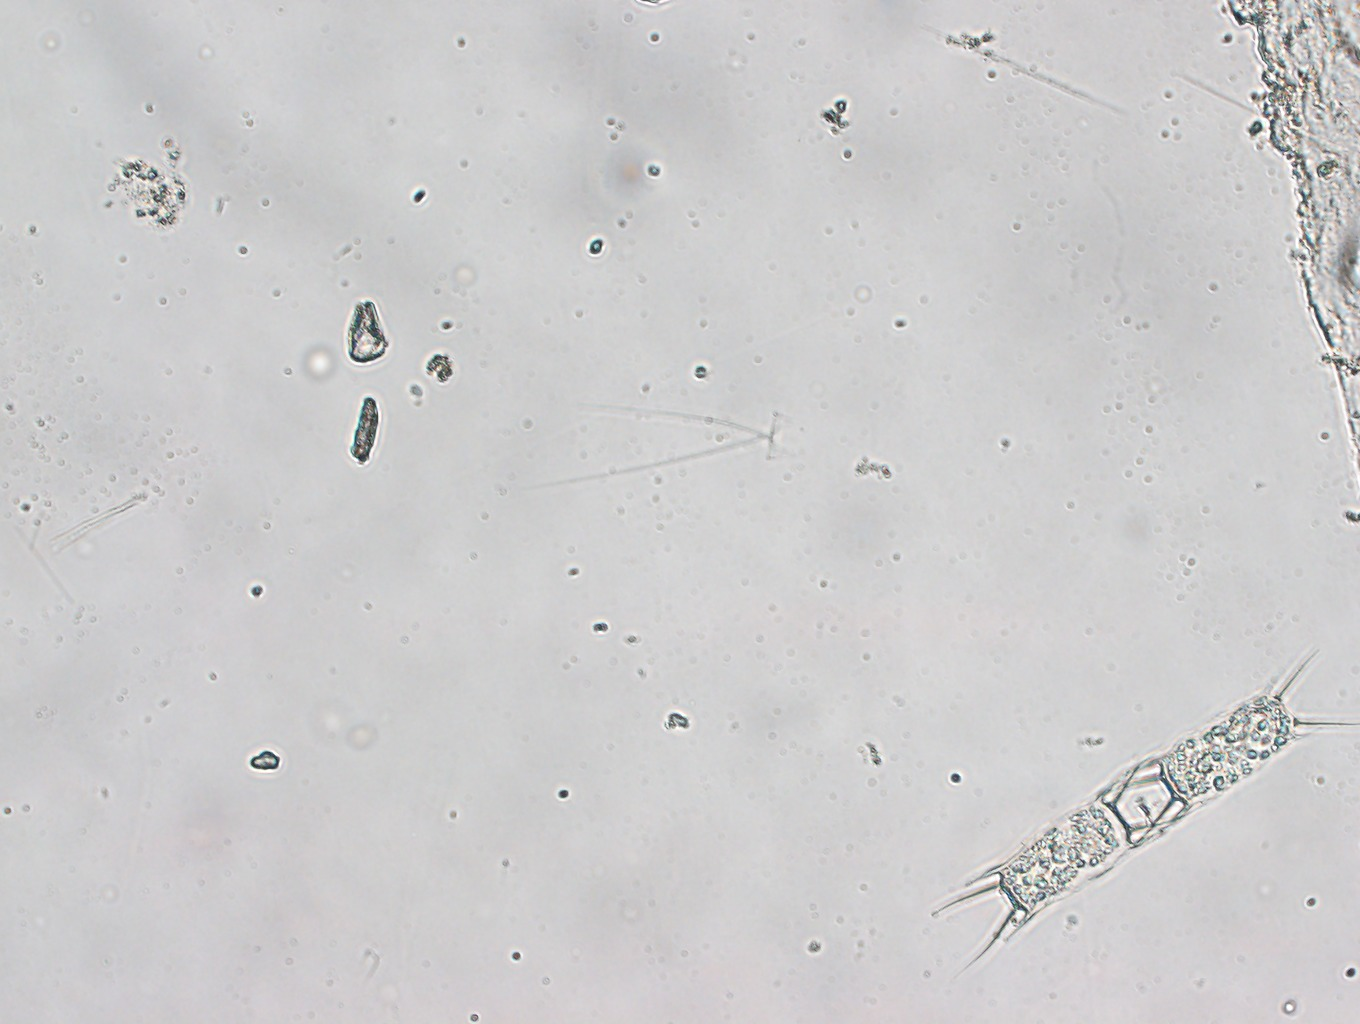biddulphia: (878, 599, 1360, 978)
